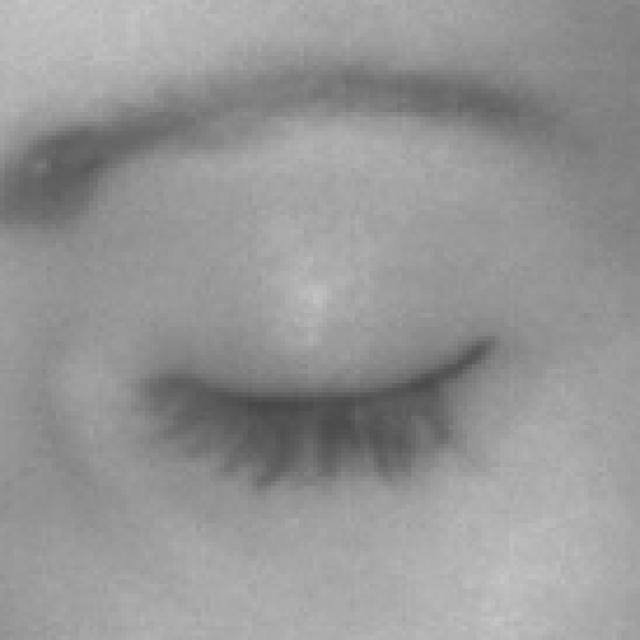close: (0, 18, 640, 576)
